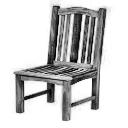chair_success: (8, 4, 112, 123)
